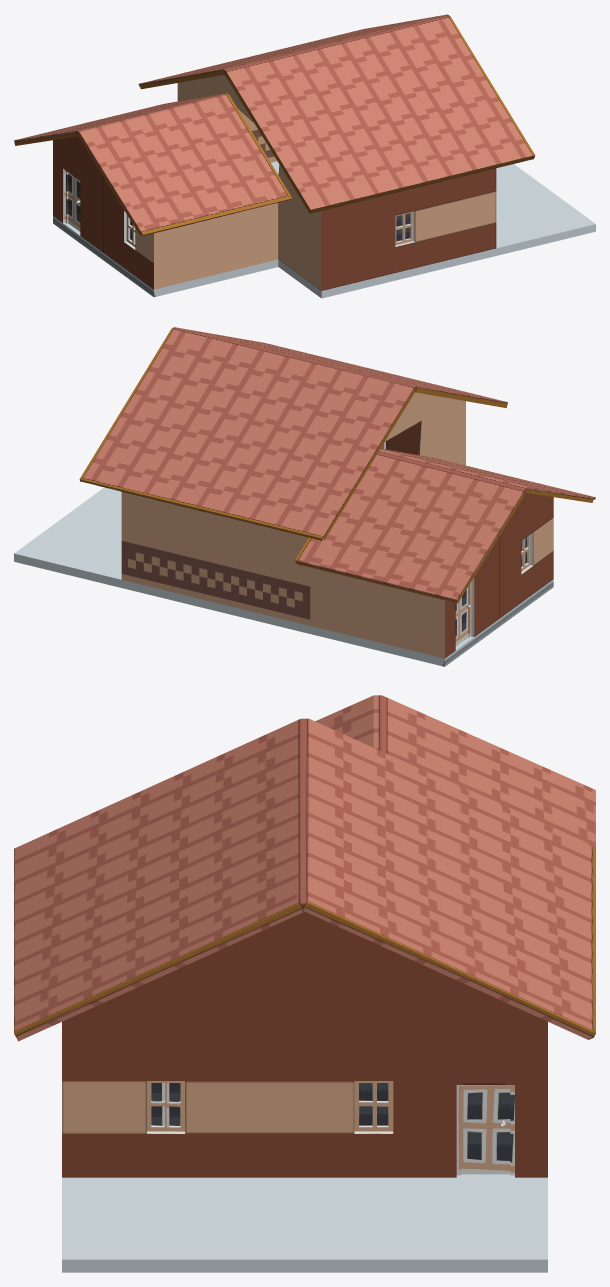
The model's file is rumah5textured.fbx.
3 views of the same model, one above another, from view 1: azimuth 30°, elevation 25°; view 2: azimuth 150°, elevation 25°; view 3: azimuth 270°, elevation 25° (orthographic). The views are drawn at different scales.
Parts seen in each view (by area): view 1: atap5, tembok5, lantai5, pintubelakang, jendelakiri; view 2: atap5, tembok5, lantai5, pintubelakang; view 3: atap5, tembok5, lantai5, pintudepan, jendeladepan1, jendeladepan2.
Boxes of the visible parts, x1,y1,x2,y2 form: atap5: (14,14,535,235); tembok5: (53,75,496,290); lantai5: (53,161,595,298); pintubelakang: (63,168,80,231); jendelakiri: (395,211,415,246); atap5: (79,327,595,603); tembok5: (121,392,553,658); lantai5: (14,487,553,666); pintubelakang: (455,578,474,645); atap5: (14,695,595,1041); tembok5: (62,912,547,1177); lantai5: (62,1174,547,1272); pintudepan: (456,1085,514,1175); jendeladepan1: (354,1081,393,1133); jendeladepan2: (146,1081,185,1133).
Bounding box in the file's own units: 1700 × 697 × 1197.
5 materials, 5 textured.
